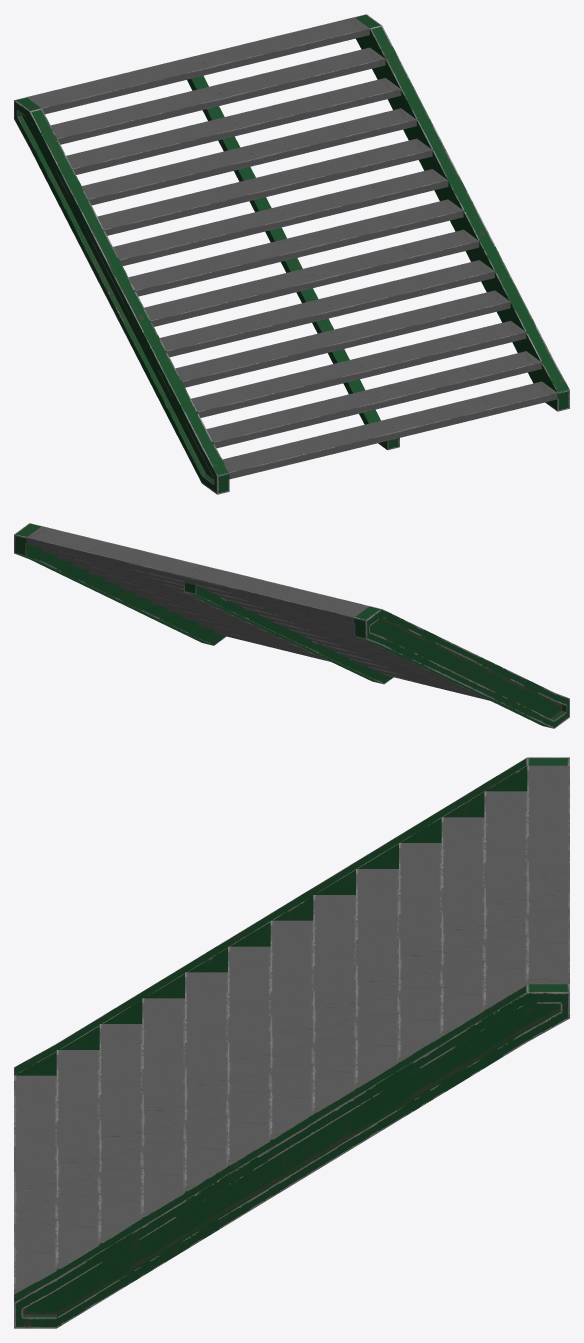
Rendered from Stairs.fbx.
3 renders of one model, top to bottom at view 1: azimuth 30°, elevation 25°; view 2: azimuth 150°, elevation 25°; view 3: azimuth 270°, elevation 25°, orthographic. The views are drawn at different scales.
Parts seen in each view (by area): view 1: Cube.041; view 2: Cube.041; view 3: Cube.041.
Part boxes in pixels (left/top/right/bottom): Cube.041: left=14, top=14, right=569, bottom=494; Cube.041: left=14, top=523, right=569, bottom=728; Cube.041: left=14, top=757, right=569, bottom=1328.
Bounding box in the file's own units: 3 × 2 × 3.
